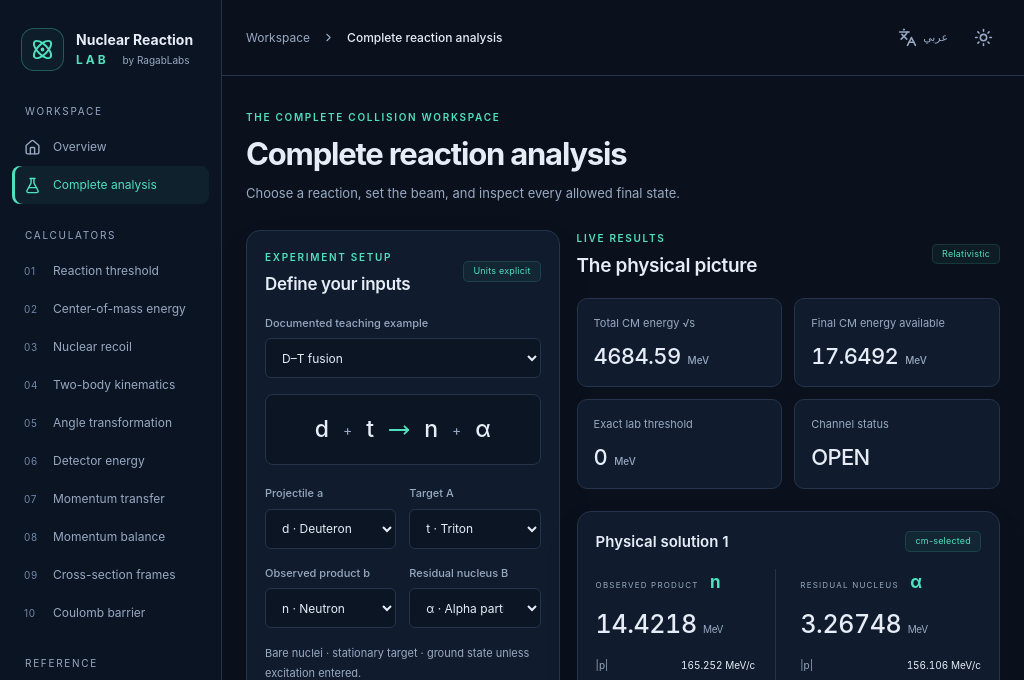
Test case: UI inverse kinematics displays both physical branches
This screenshot has width=1024, height=680.
Select "Alpha–neutron elastic" in the dropdown labelled "Documented teaching example" at (403, 358), box [265,338,541,378]
(page scrolled)
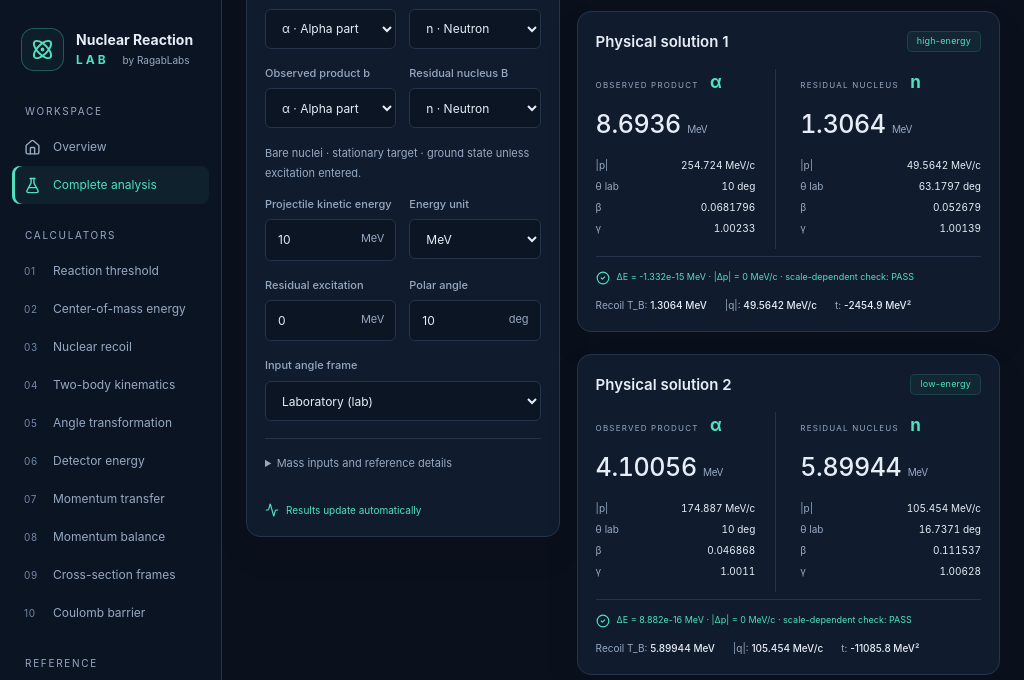
expect the number of elements with class "branch-card" is 2: met, box [577,11,1000,332]; [577,354,1000,675]
expect the text "high-energy" is shown: met, box [907,31,981,52]
expect the text "low-energy" is shown: met, box [910,374,981,395]
